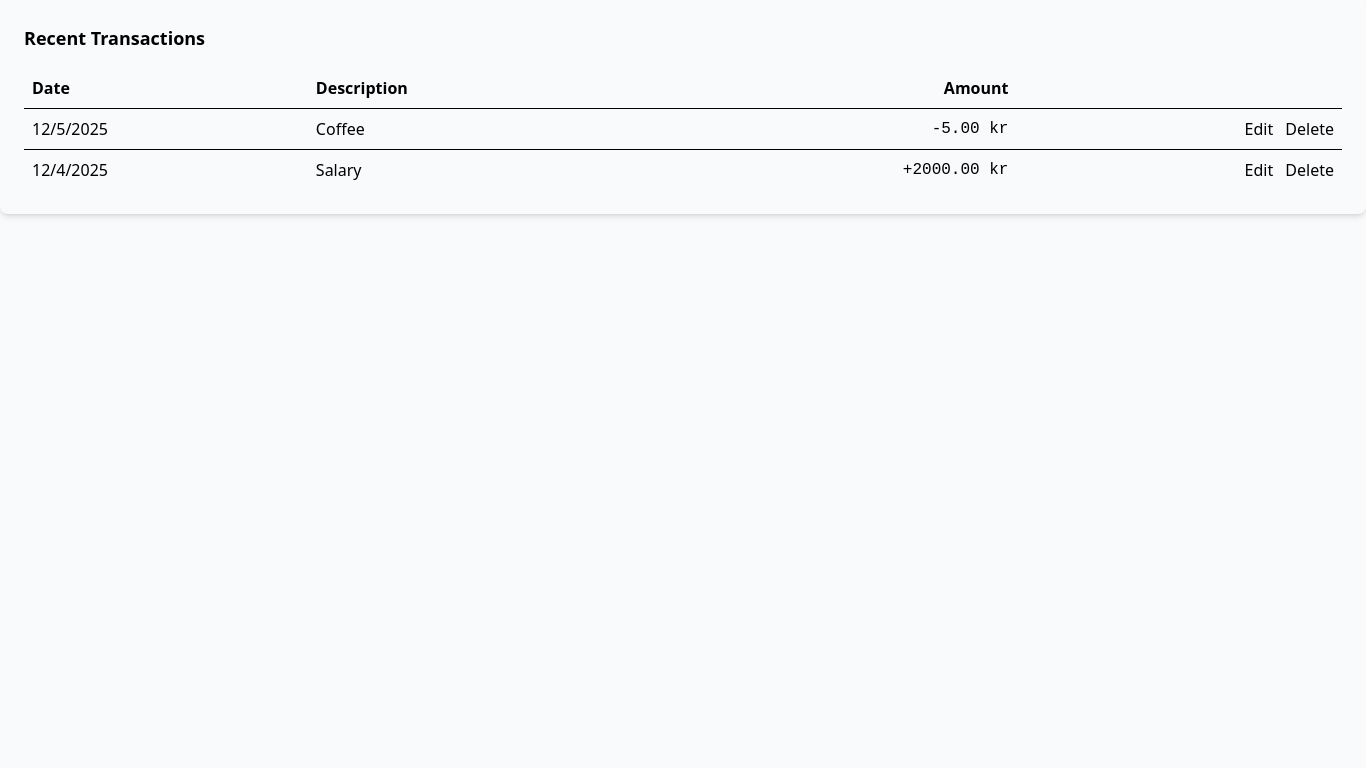
Test case: TransactionList Component › opens delete confirmation modal when delete button is clicked
What coordinates should you click on to do the following:
click the button "Delete" in the row of "12/5/2025"
I would click on:
 (1310, 129)
Its box is x1=1285 y1=117 x2=1334 y2=141.
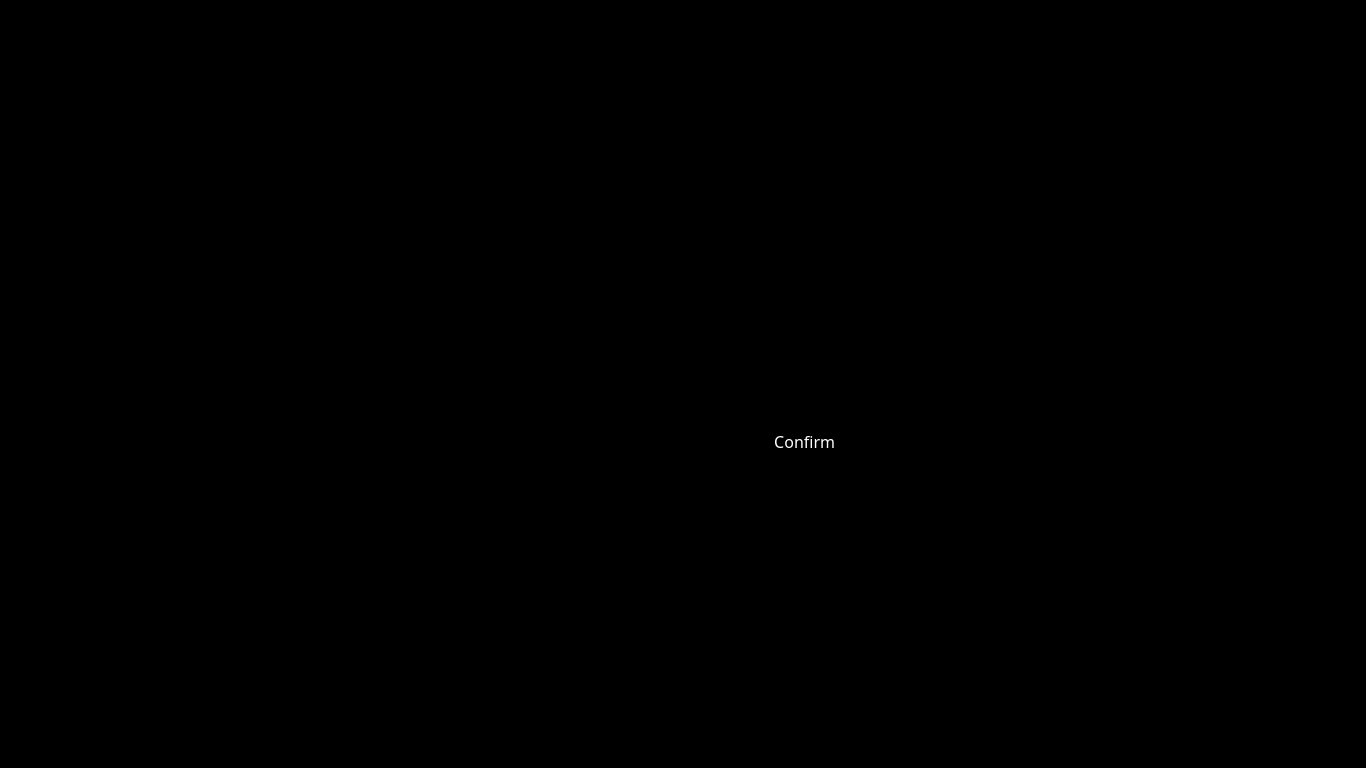
expect the button "Confirm" is shown: met, box x1=758 y1=422 x2=851 y2=462
